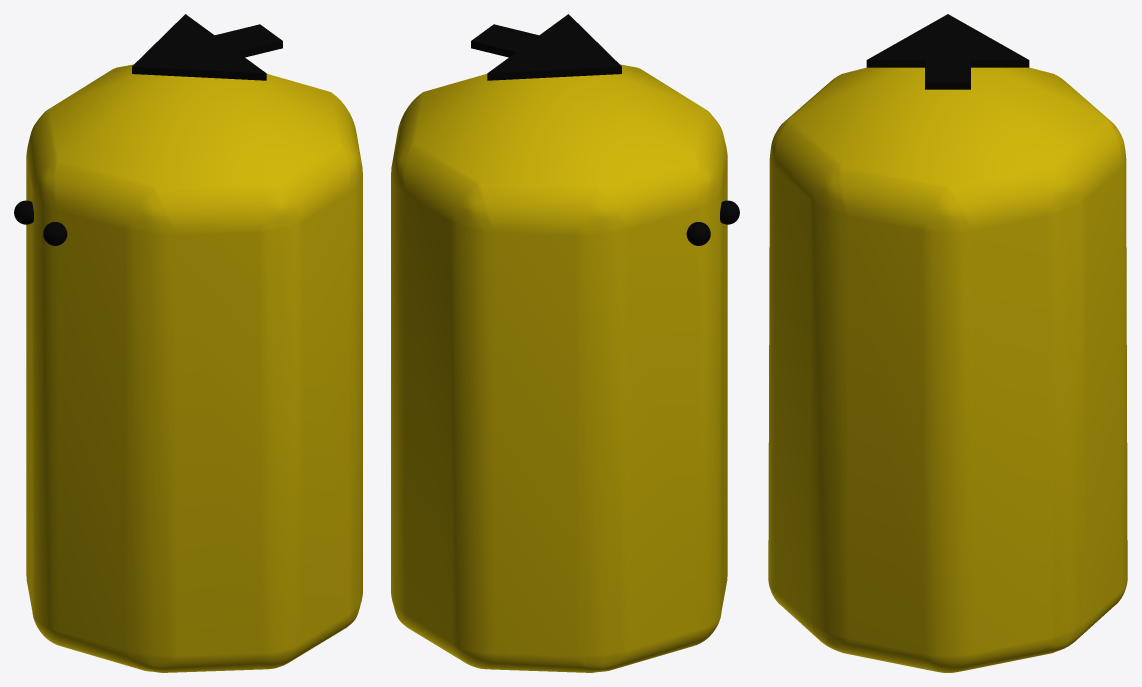
3 views of the same model, side by side, from view 1: azimuth 30°, elevation 25°; view 2: azimuth 150°, elevation 25°; view 3: azimuth 270°, elevation 25° (orthographic).
Parts seen in each view (by area): view 1: Cube.020_Cube.008_Material.003, Cube.020_Cube.008_SVGMat; view 2: Cube.020_Cube.008_Material.003, Cube.020_Cube.008_SVGMat; view 3: Cube.020_Cube.008_Material.003, Cube.020_Cube.008_SVGMat.
Part boxes in pixels (<box>): Cube.020_Cube.008_Material.003: <box>26,64,362,672</box>; Cube.020_Cube.008_SVGMat: <box>14,14,282,245</box>; Cube.020_Cube.008_Material.003: <box>391,64,727,672</box>; Cube.020_Cube.008_SVGMat: <box>471,14,739,245</box>; Cube.020_Cube.008_Material.003: <box>768,67,1127,672</box>; Cube.020_Cube.008_SVGMat: <box>866,14,1029,89</box>.
Size of the model in its own units: 0.2642 by 0.4425 by 0.2565.
